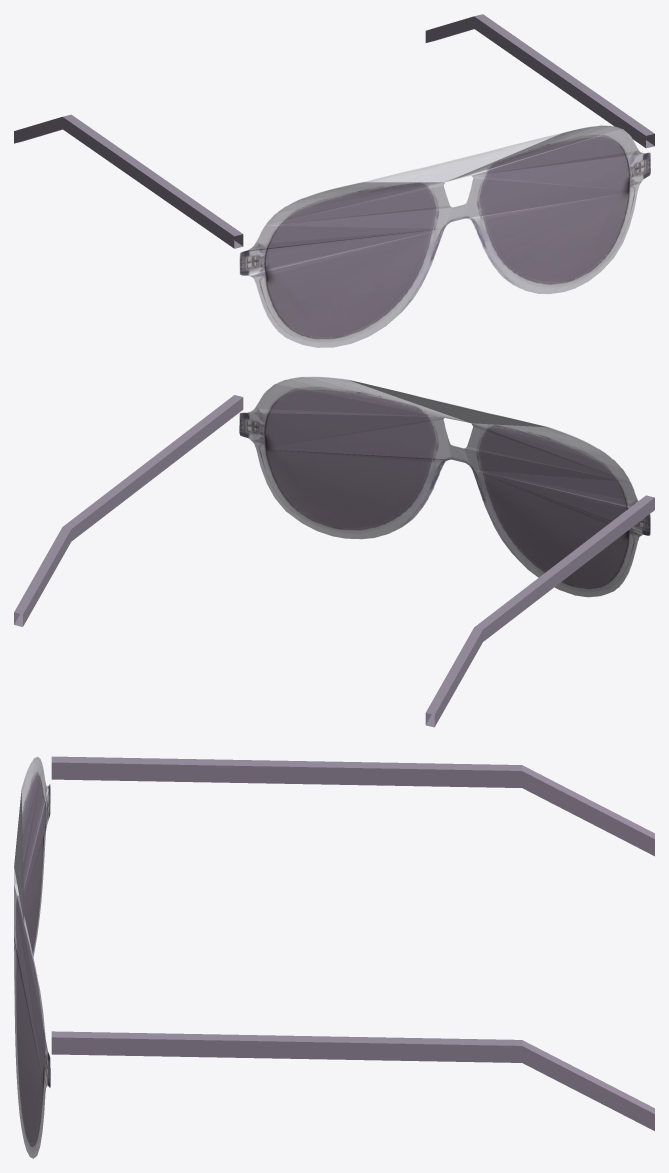
The model's file is dkny-dk556s_crystal-clear.glb.
3 views of the same model, one above another, from view 1: azimuth 30°, elevation 25°; view 2: azimuth 150°, elevation 25°; view 3: azimuth 270°, elevation 25° (orthographic). The views are drawn at different scales.
Parts seen in each view (by area): view 1: frame_front, temple_viewer_left, temple_viewer_right; view 2: frame_front, temple_viewer_left, temple_viewer_right; view 3: temple_viewer_right, temple_viewer_left, frame_front.
Part boxes in pixels (bbox=[...]): frame_front: bbox=[239, 125, 650, 347]; temple_viewer_left: bbox=[14, 114, 243, 248]; temple_viewer_right: bbox=[425, 14, 654, 148]; frame_front: bbox=[239, 376, 650, 597]; temple_viewer_left: bbox=[425, 495, 654, 727]; temple_viewer_right: bbox=[14, 395, 243, 626]; temple_viewer_right: bbox=[51, 1031, 654, 1130]; temple_viewer_left: bbox=[51, 756, 654, 856]; frame_front: bbox=[14, 756, 50, 1158].
Size of the model in its own units: 0.141 by 0.0513 by 0.136.
2 materials, 2 textured.
